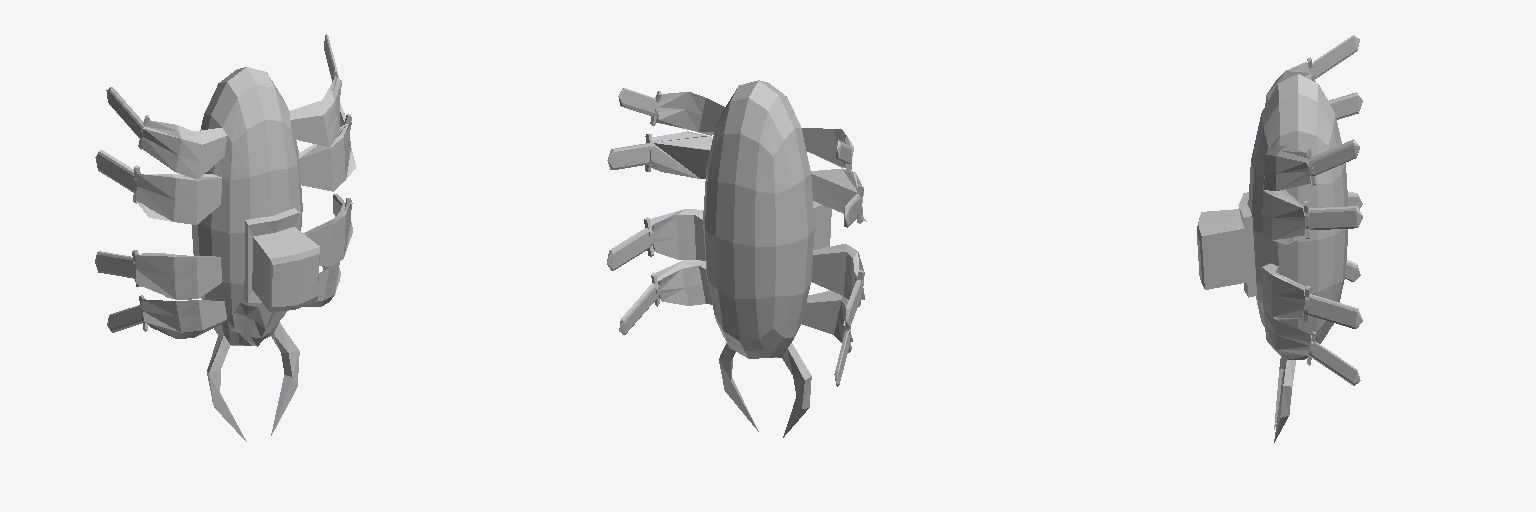
Rendered from spider.obj.
3 views of the same model, side by side, from view 1: azimuth 30°, elevation 25°; view 2: azimuth 150°, elevation 25°; view 3: azimuth 270°, elevation 25° (orthographic).
Visible parts, largest first — view 1: Cube_Mesh; view 2: Cube_Mesh; view 3: Cube_Mesh.
Boxes of the visible parts, box(x1,y1,x2,y2) form: Cube_Mesh: box(95, 34, 355, 441); Cube_Mesh: box(607, 80, 866, 437); Cube_Mesh: box(1197, 35, 1362, 442).
Size of the model in its own units: 7.39 by 10.68 by 4.43.